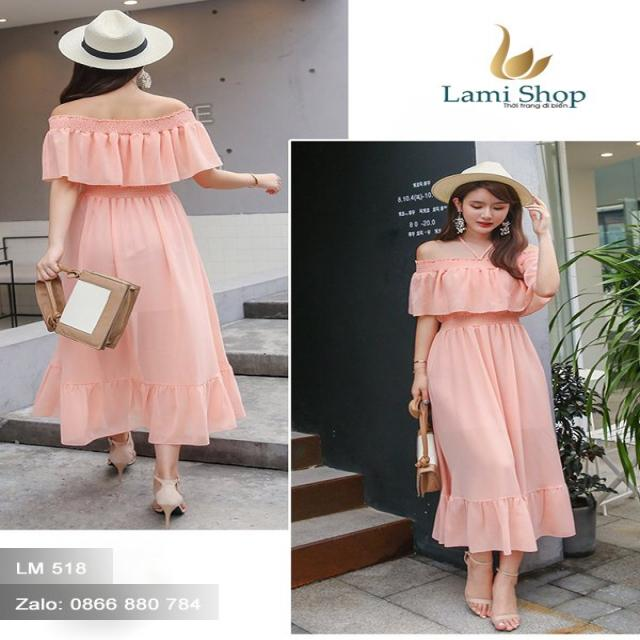clothes: (30, 97, 255, 456), (407, 239, 579, 553)
